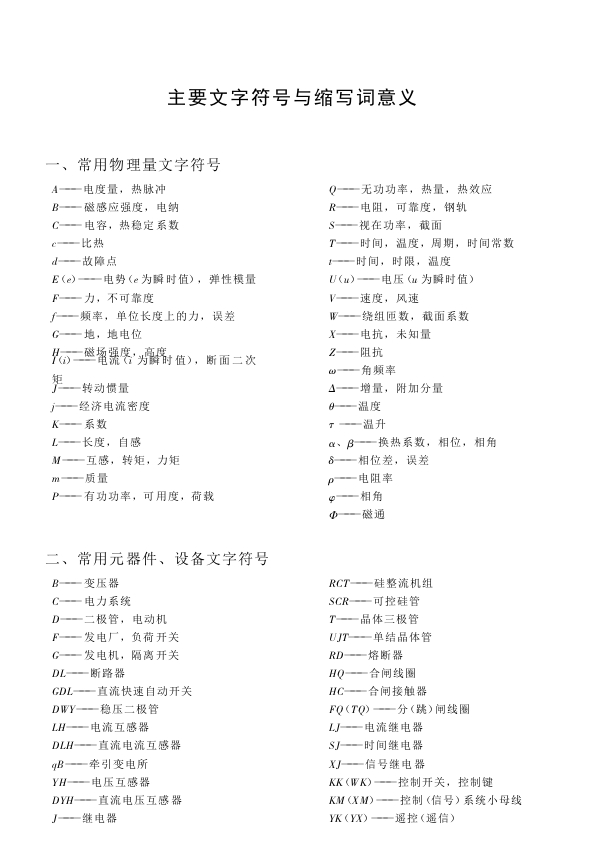table: (49, 183, 514, 519), (52, 577, 521, 822)
